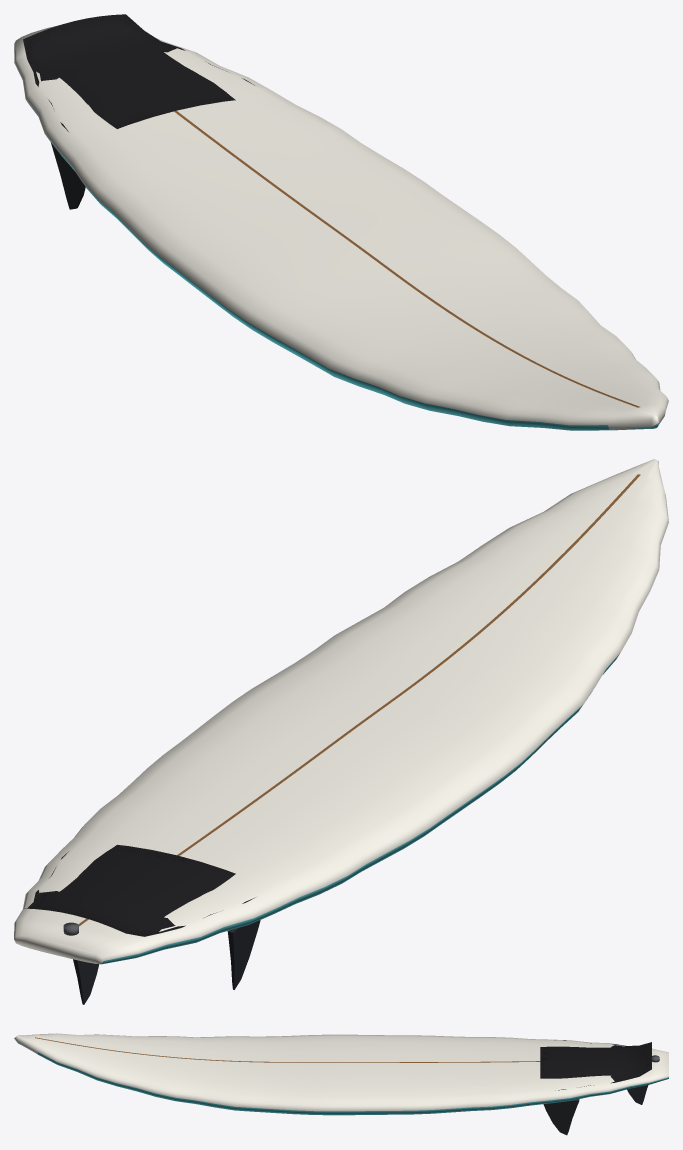
The model's file is board.glb.
3 renders of one model, top to bottom at view 1: azimuth 30°, elevation 25°; view 2: azimuth 150°, elevation 25°; view 3: azimuth 270°, elevation 25°, orthographic. The views are drawn at different scales.
Visible parts, largest first — view 1: Board; view 2: Board; view 3: Board.
Boxes of the visible parts, left/top/right/bottom form: Board: left=14, top=14, right=668, bottom=430; Board: left=14, top=459, right=668, bottom=1004; Board: left=14, top=1033, right=668, bottom=1135.
Bounding box in the file's own units: 0.488 × 0.2397 × 1.83.
